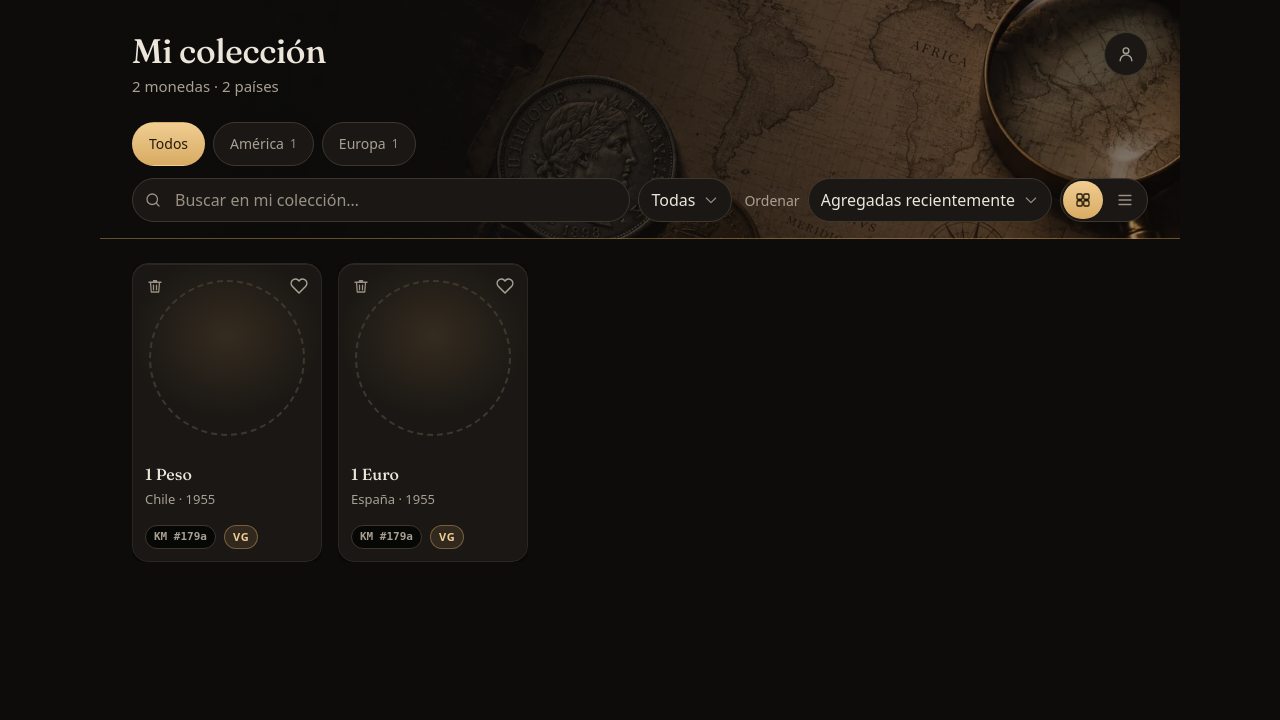
Test: filtra por continente y acota los países del selector
Click the button "Europa 1" at [369, 144], box [322,122,416,166]
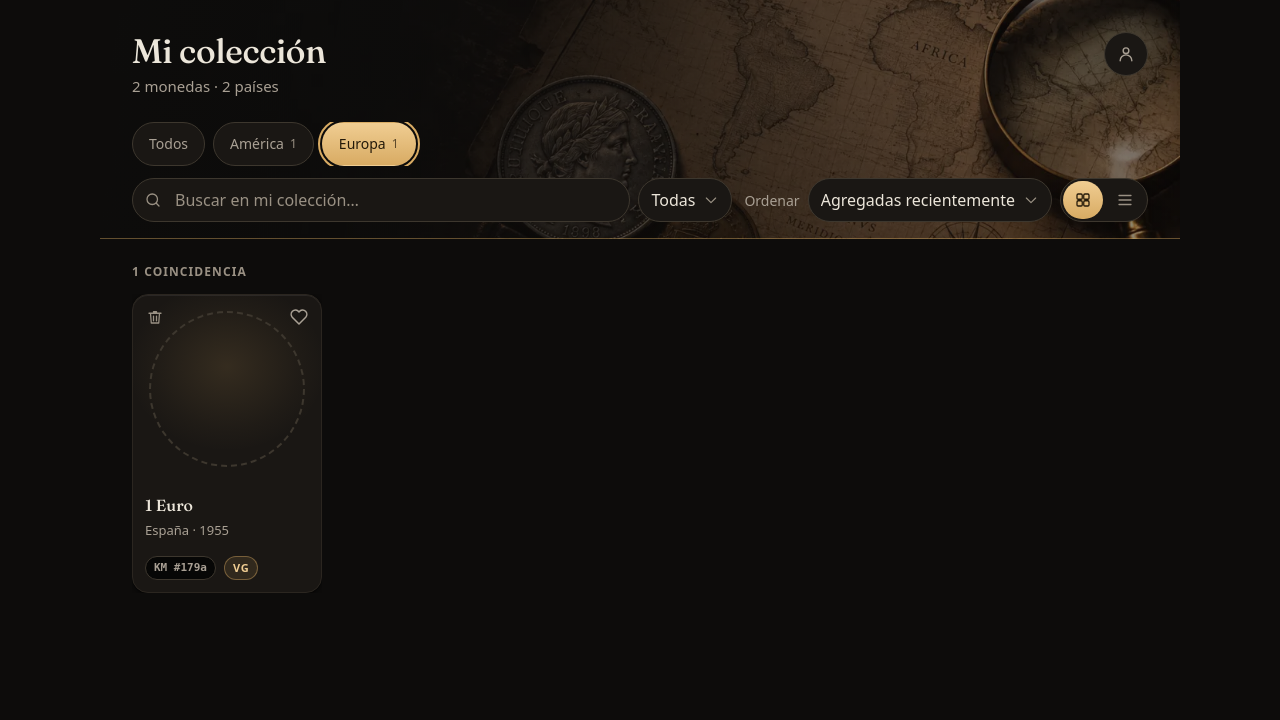
Expected: the button "1 Euro" is shown, [145,495,193,516]
Now the button "1 Peso" is gone
Click the dropdown named "Filtrar por país" at [685, 200], box [638,178,732,222]
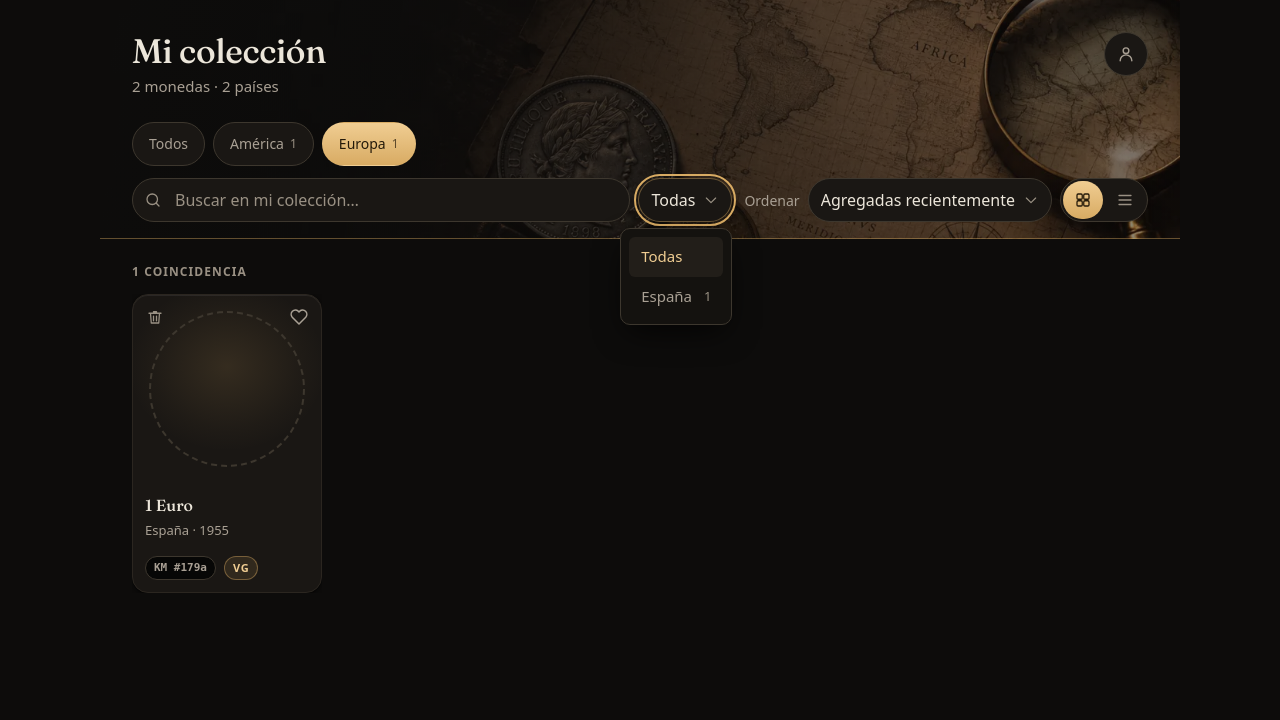
Expected: the text "Chile" is not shown
Now the option "España 1" is shown, box [641,286,711,306]
